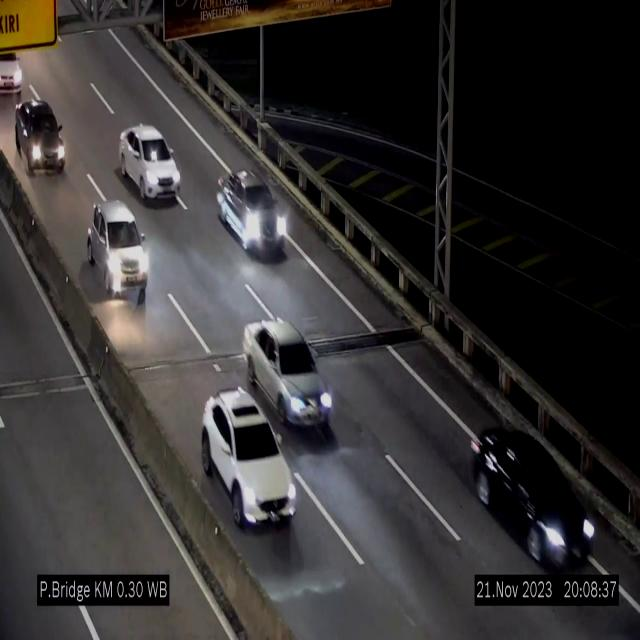Car: (472, 415, 598, 565), (201, 390, 296, 527), (243, 320, 333, 428), (87, 198, 150, 303), (216, 171, 288, 256), (119, 124, 181, 202), (13, 97, 68, 174), (0, 45, 34, 100)
